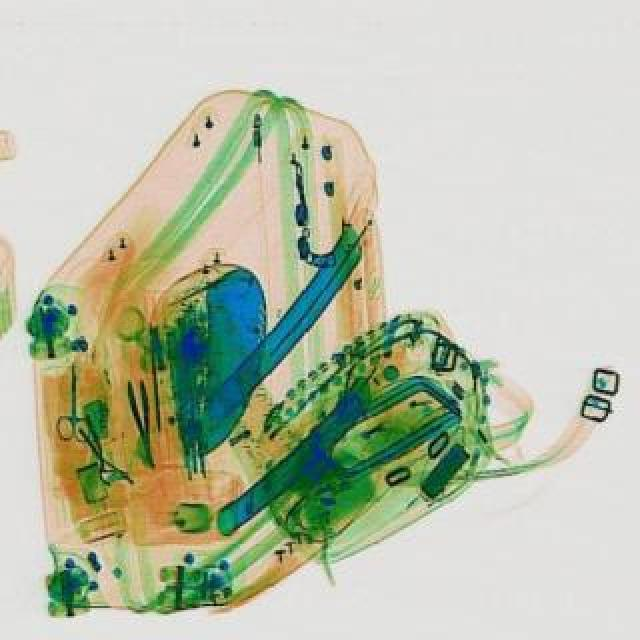pliers: (60, 360, 98, 438)
